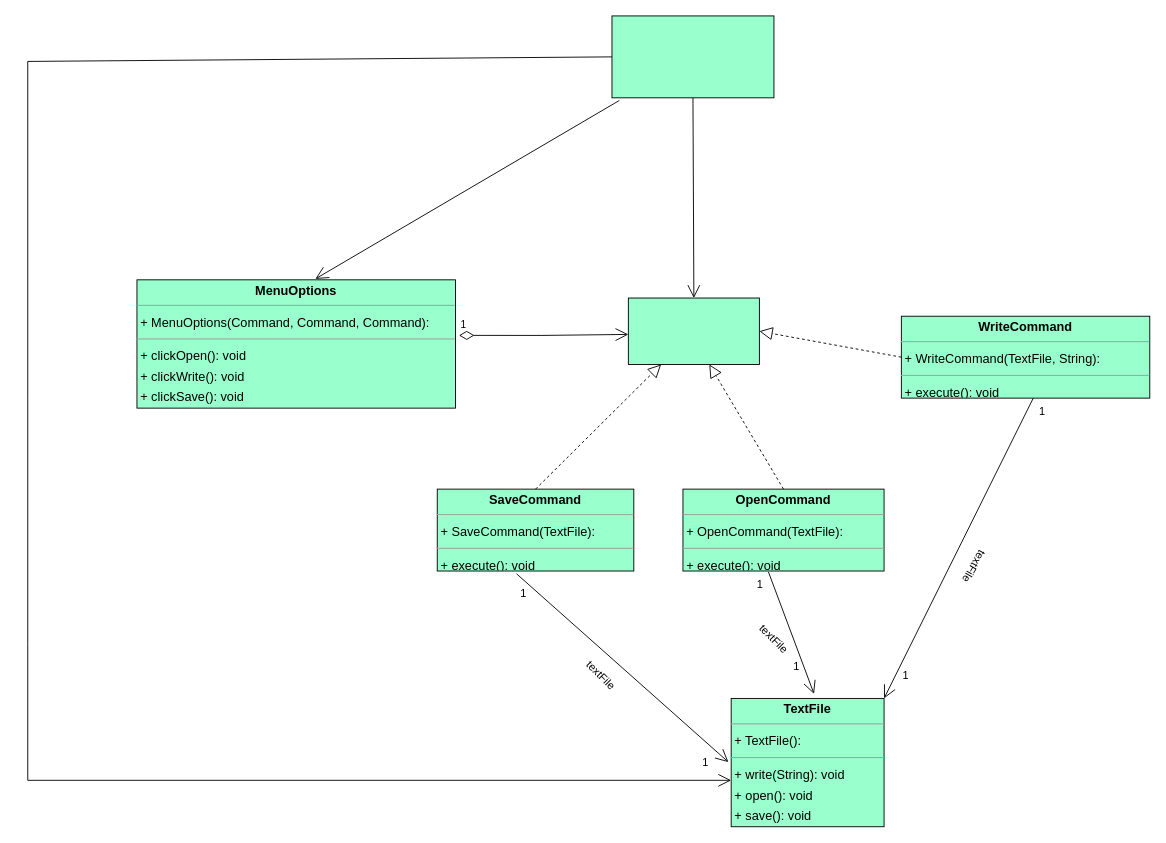
The diagram is 1166 pixels wide and 843 high, and some of its shapes have lost their labels. The shapes that lost their labels are listed below. From the top down, each one's box as (x1, y1, x2, y2) in pixels, then its label:
(611, 15, 774, 98): Client + Client(): + main(String[]): void
(627, 297, 759, 364): <<interface>> Command + execute(): void
